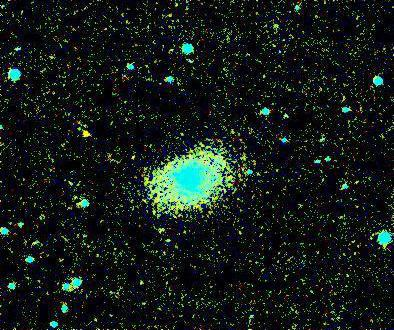star: (71, 119, 101, 149)
